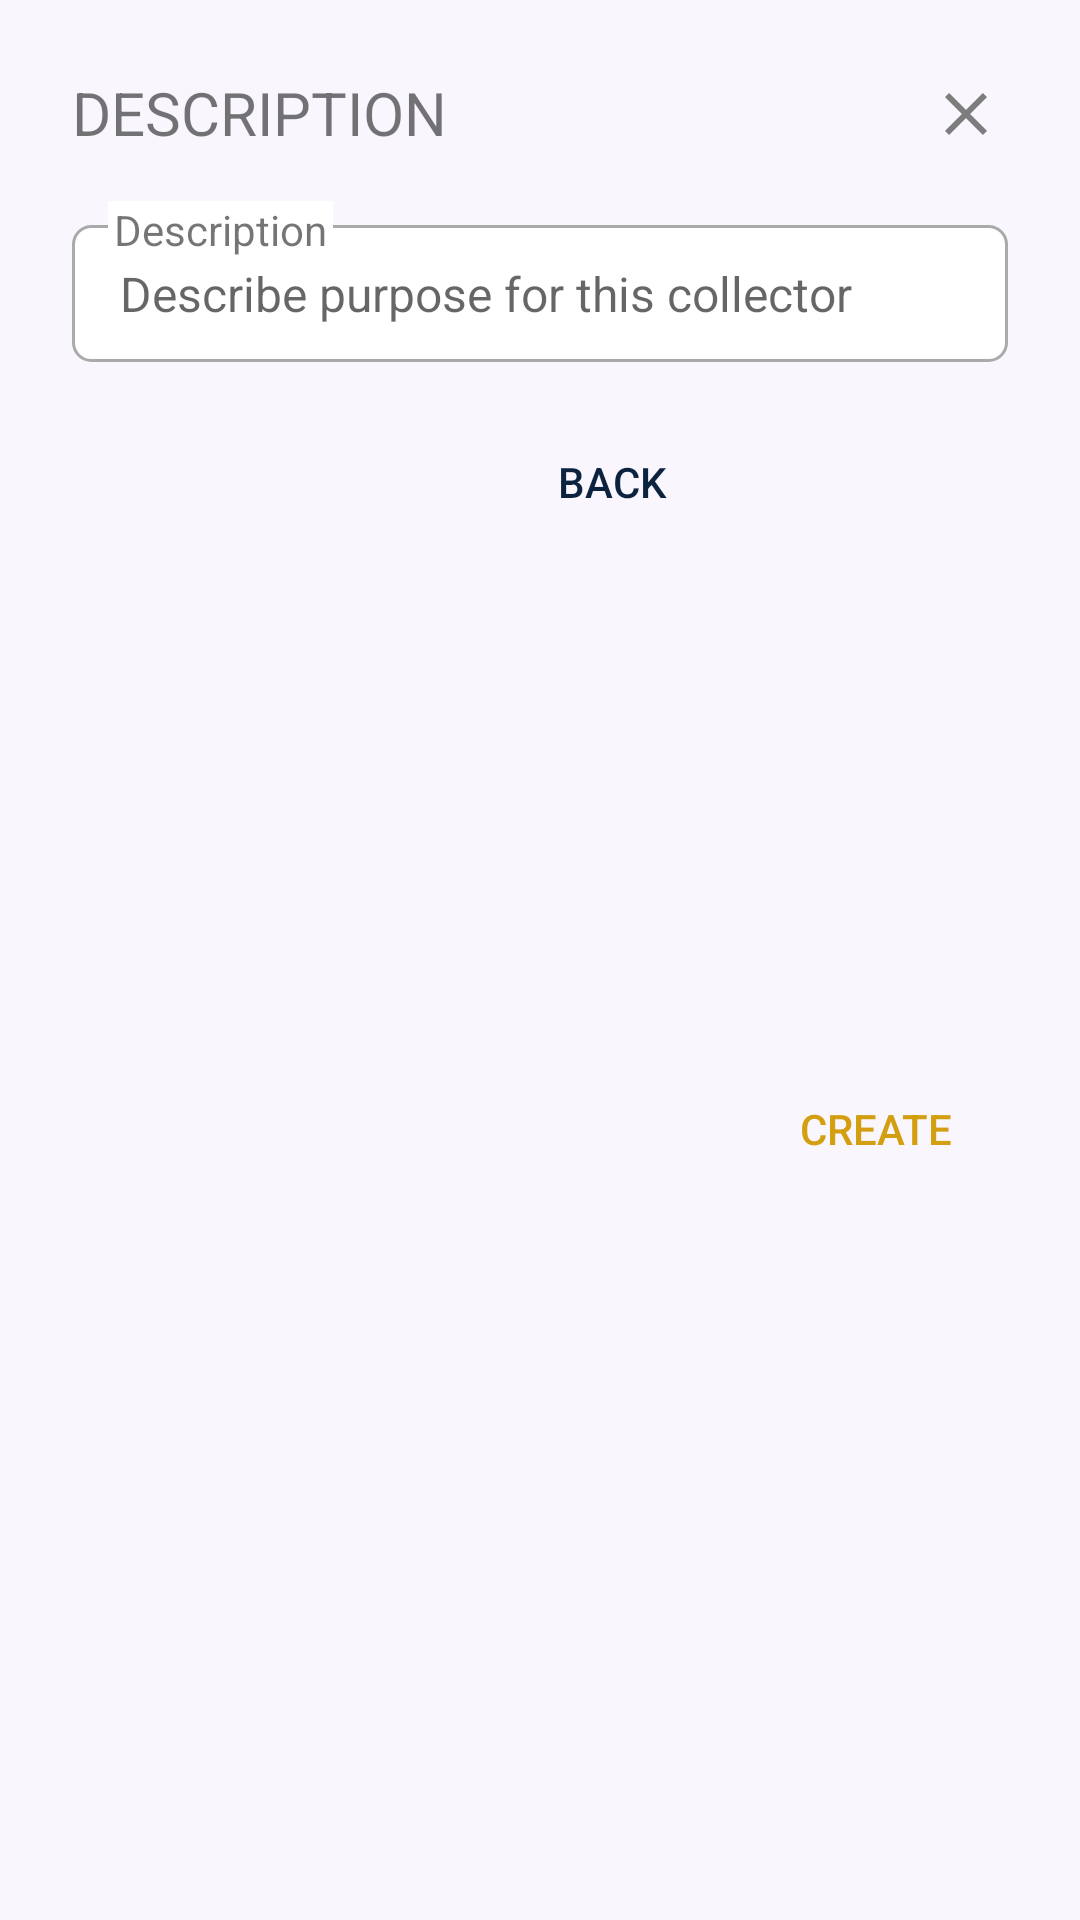

Screen size 1080w x 1920h. Icon name, then its center in pixels as (x=x, y=y):
close: (x=966, y=114)
